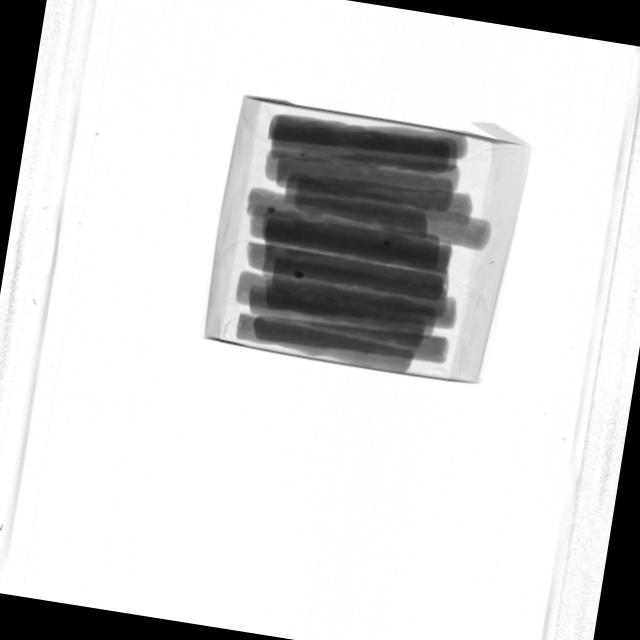ym: (293, 269, 305, 280), (267, 206, 276, 215), (385, 241, 391, 247), (301, 153, 306, 158)
